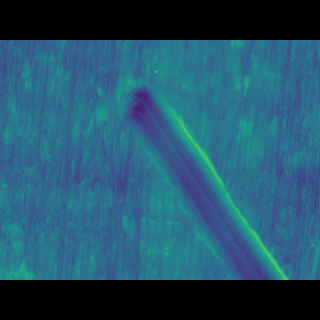Loch: (115, 95, 291, 250)
